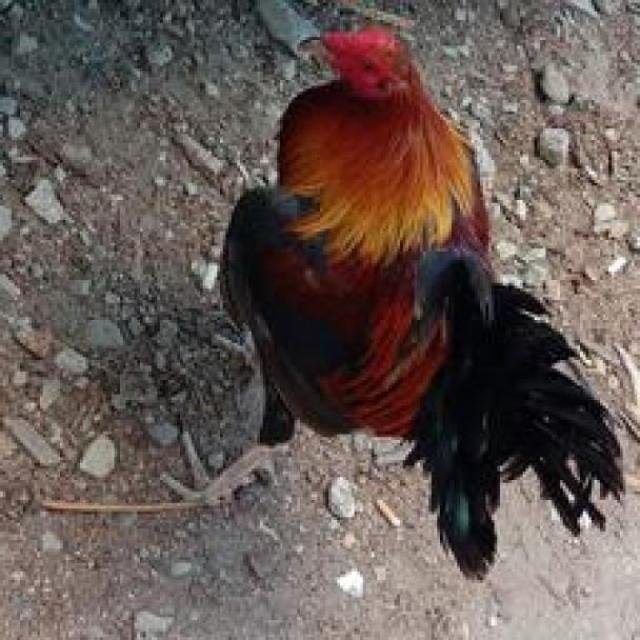Chicken: (183, 3, 640, 597)
